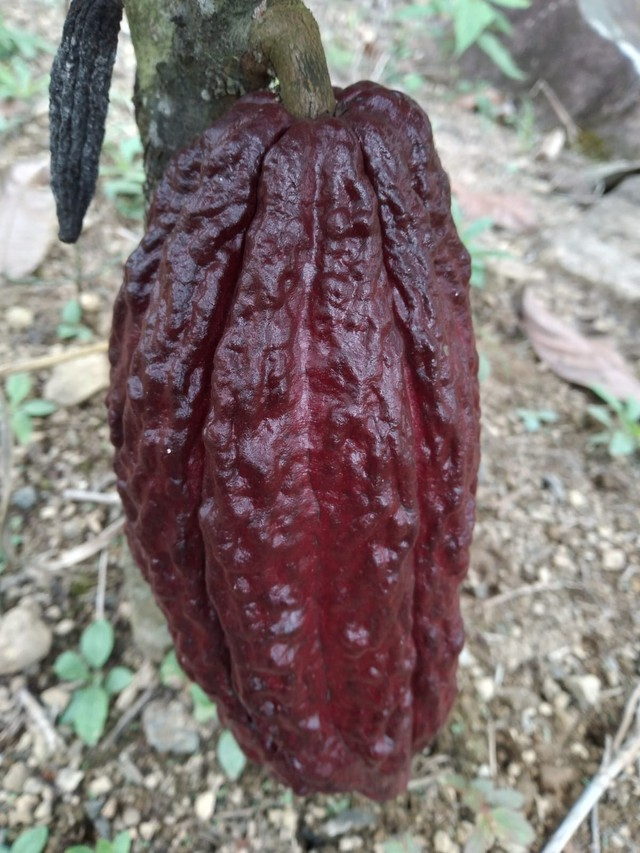Health: (95, 77, 493, 807)
